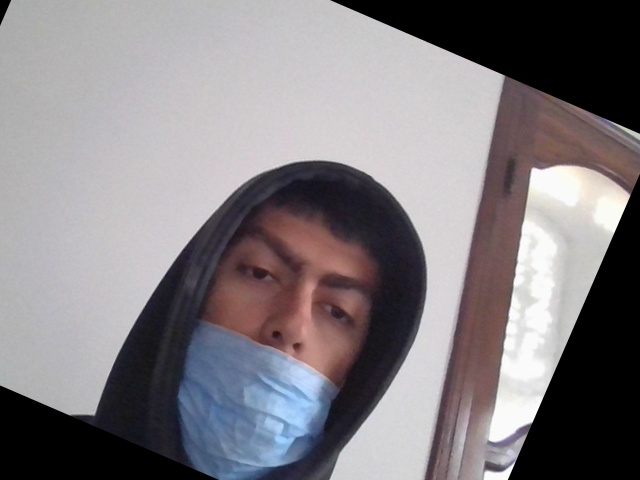mask_weared_incorrect: (181, 186, 378, 468)
